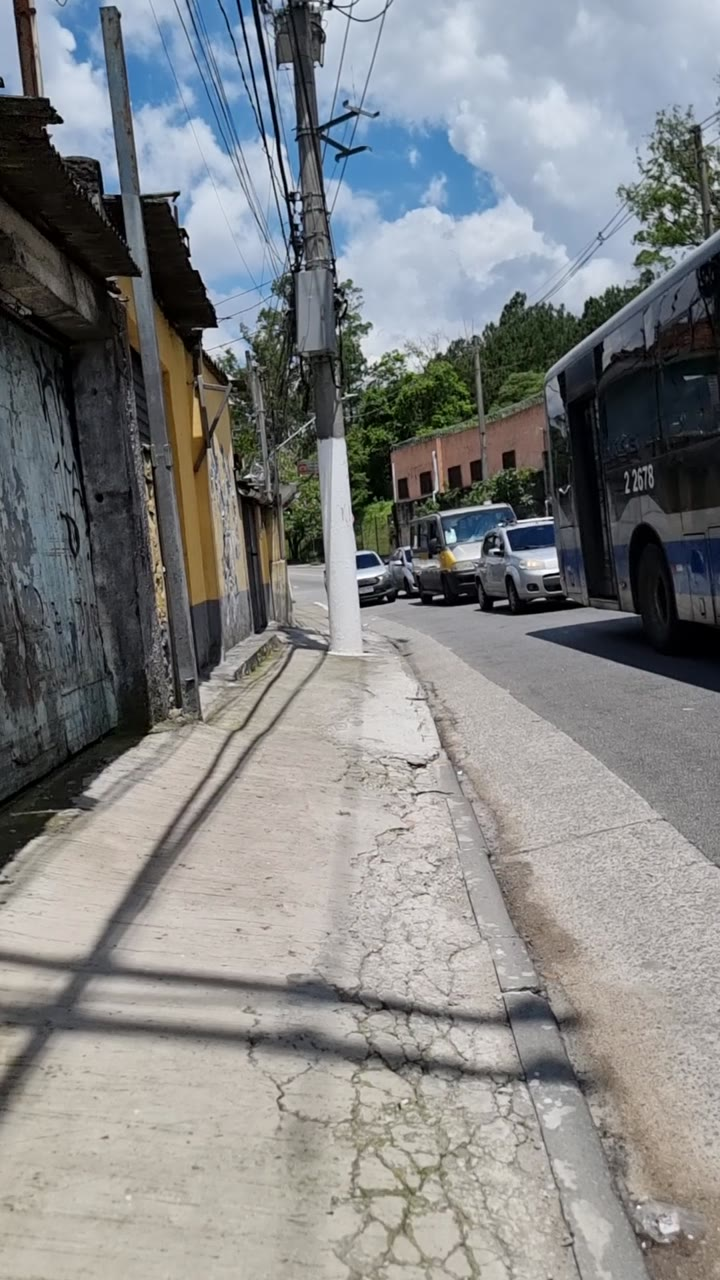obstaculo: (287, 2, 367, 648)
